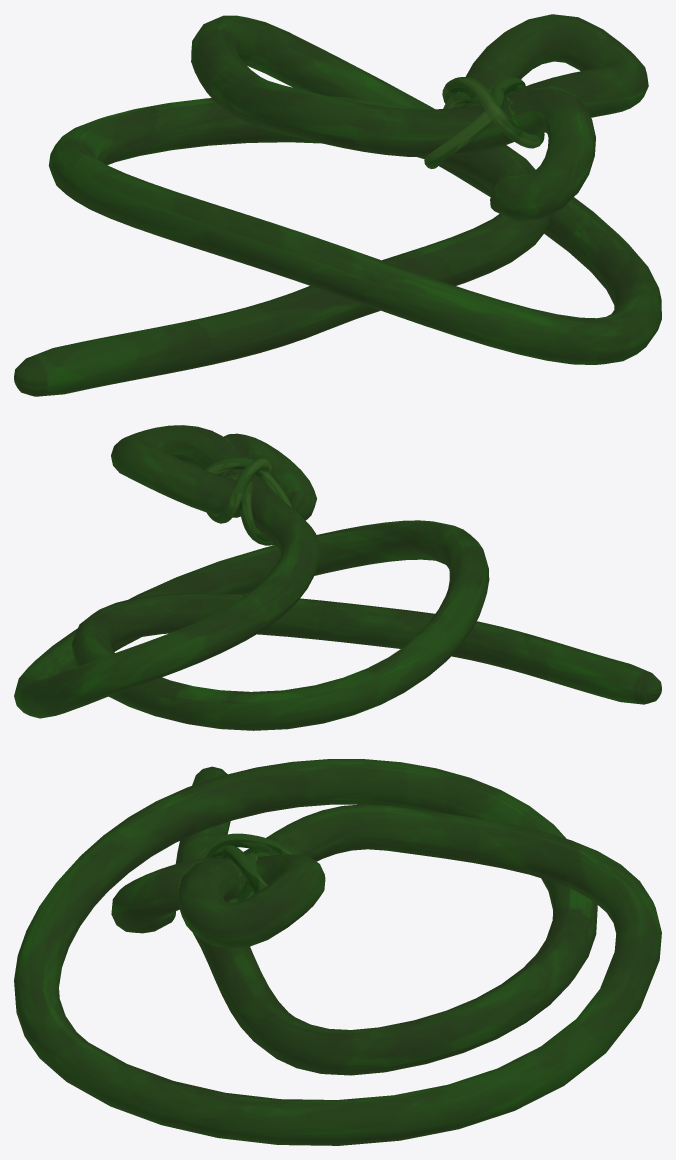
Rendered from vine_grapple.glb.
The picture shows the model from 3 angles, top to bottom: view 1: azimuth 30°, elevation 25°; view 2: azimuth 150°, elevation 25°; view 3: azimuth 270°, elevation 25°; orthographic projection. The views are drawn at different scales.
Parts seen in each view (by area): view 1: Vine, Small Rope; view 2: Vine, Small Rope; view 3: Vine, Small Rope.
Part boxes in pixels (bbox=[...]): Vine: bbox=[14, 14, 661, 396]; Small Rope: bbox=[424, 77, 544, 168]; Vine: bbox=[14, 425, 661, 730]; Small Rope: bbox=[205, 457, 292, 545]; Vine: bbox=[14, 759, 661, 1145]; Small Rope: bbox=[198, 833, 293, 903].
Size of the model in its own units: 0.4444 by 0.1725 by 0.3989.
Materials: 2 (2 with a texture image).
